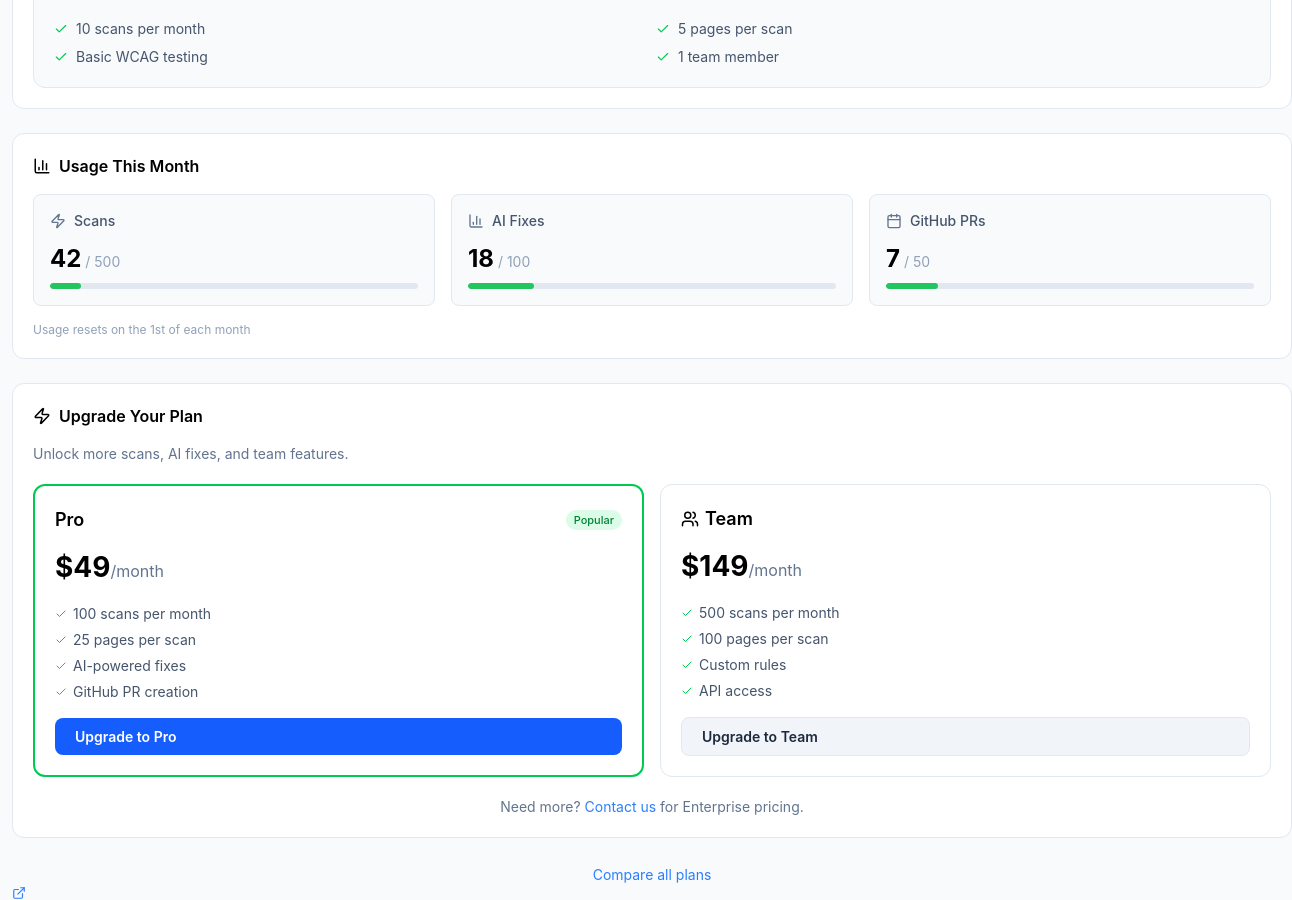
Test: settings/BillingSettings › handles upgrade to Team in mock mode
The width and height of the screenshot is (1292, 900).
(page scrolled)
Click the button "Upgrade to Team" at x=760, y=736, box [681,717,1250,756]
(page scrolled)
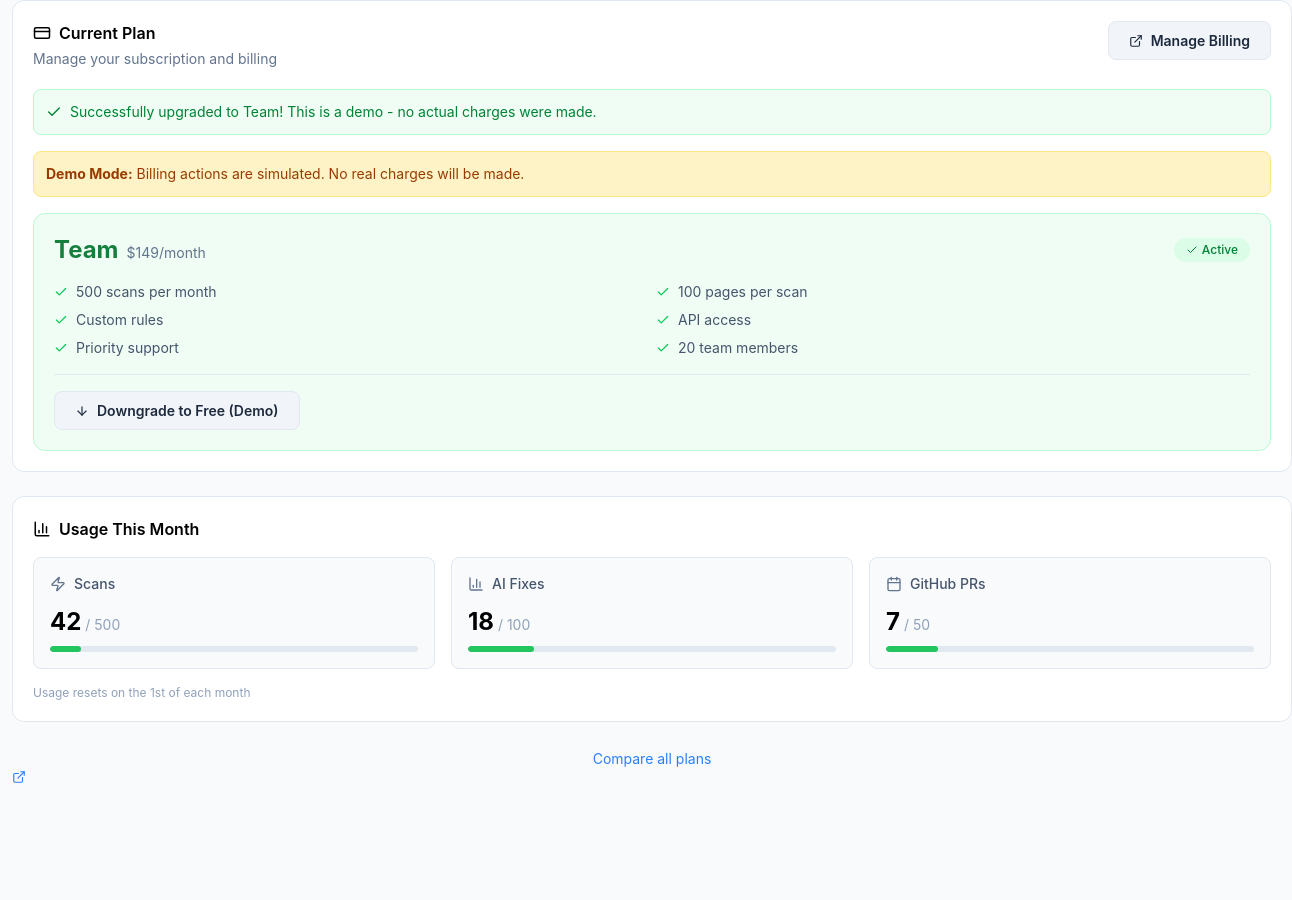
expect the text "Successfully upgraded to Team" is shown: met, box [70,103,597,120]
